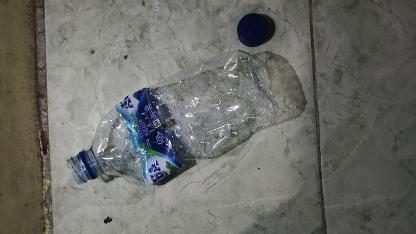Plastic Bottle: (68, 50, 278, 188)
